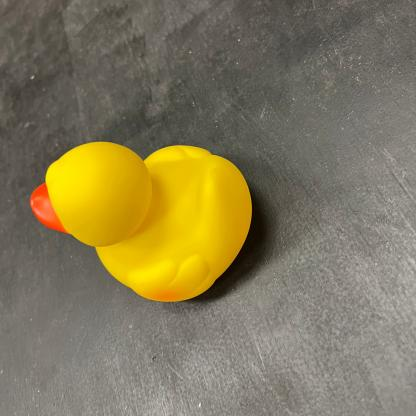duck: (28, 136, 255, 306)
